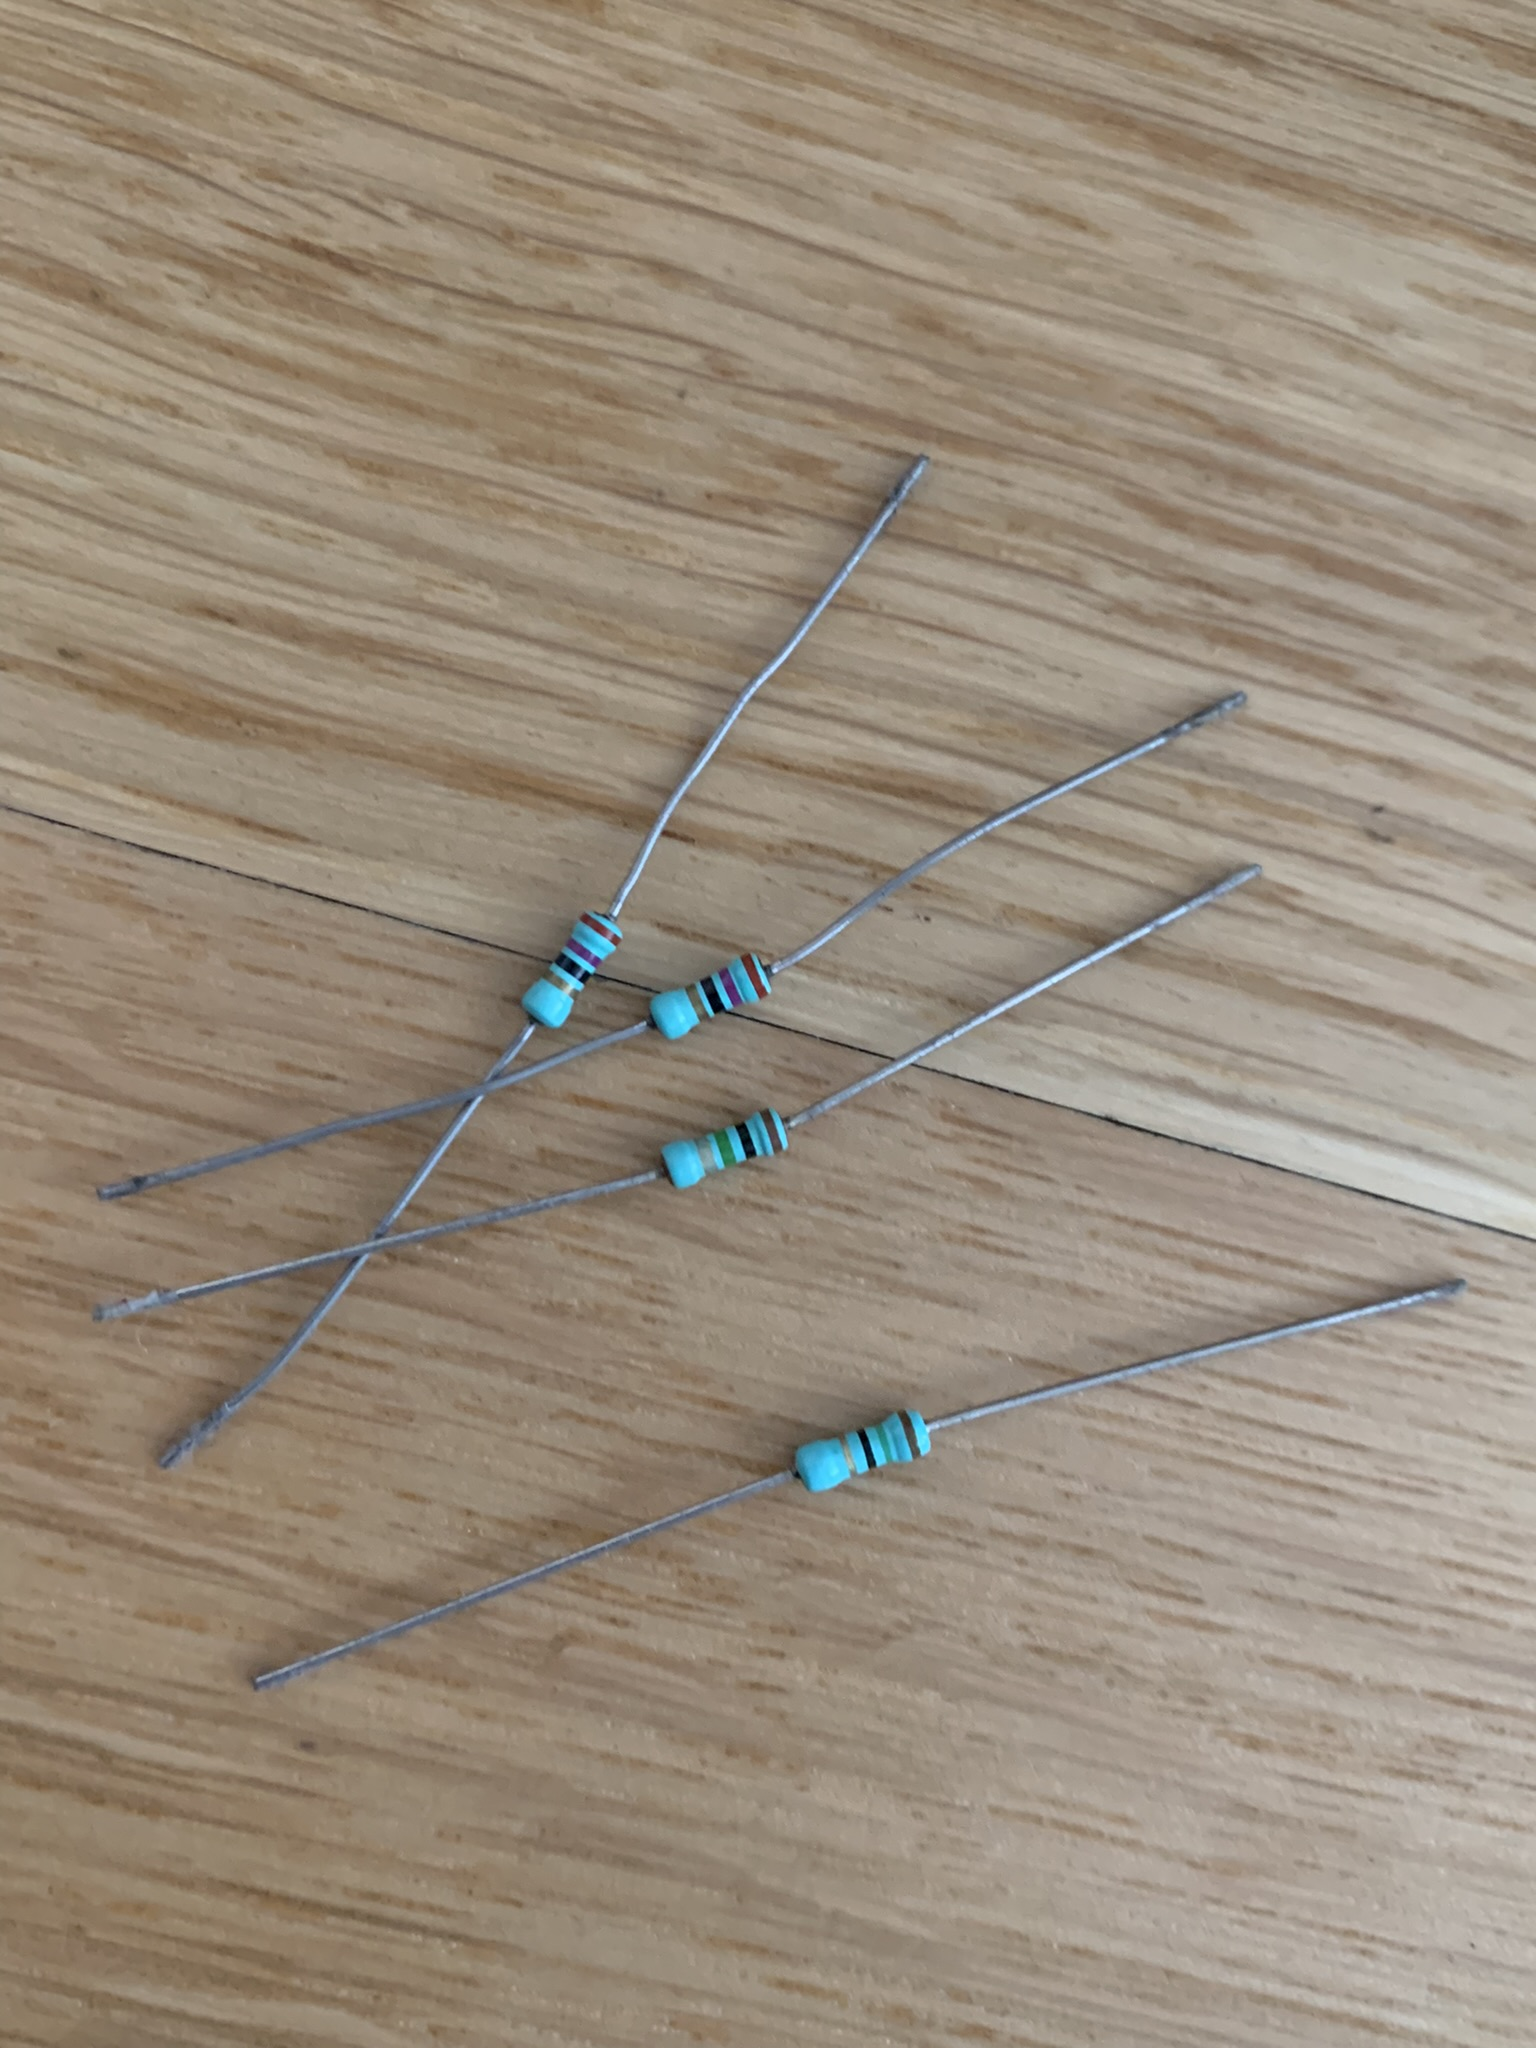resistor_thd: (520, 906, 626, 1034), (792, 1408, 933, 1495), (647, 951, 778, 1042), (660, 1108, 791, 1190)
